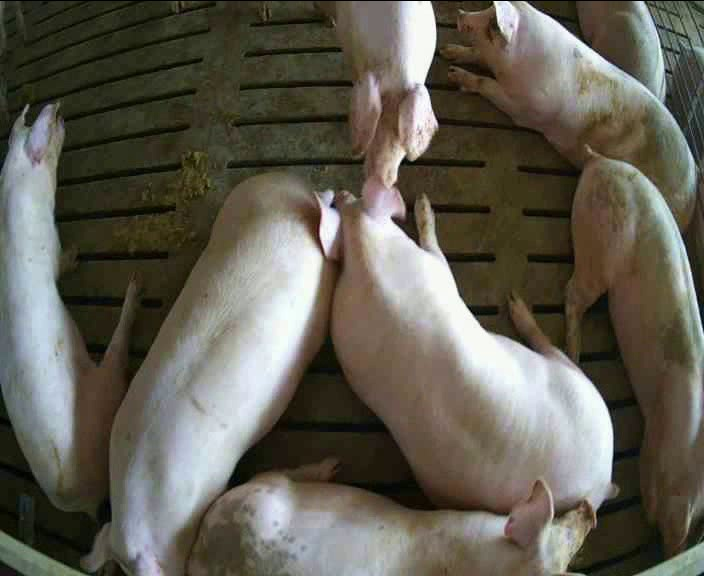pig: (314, 179, 614, 511), (442, 2, 695, 227), (0, 104, 139, 513), (567, 149, 703, 554), (188, 462, 594, 574), (336, 2, 437, 187)
